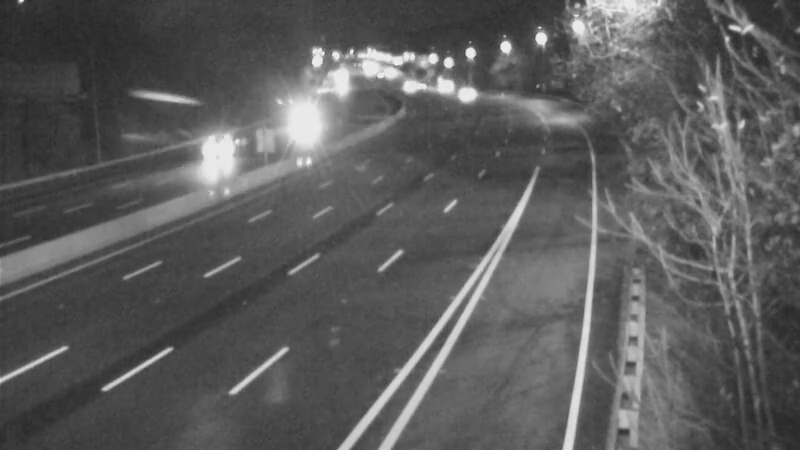vehicle: (383, 62, 433, 112), (415, 59, 465, 109), (446, 67, 496, 117), (185, 120, 235, 170), (276, 102, 326, 152)
